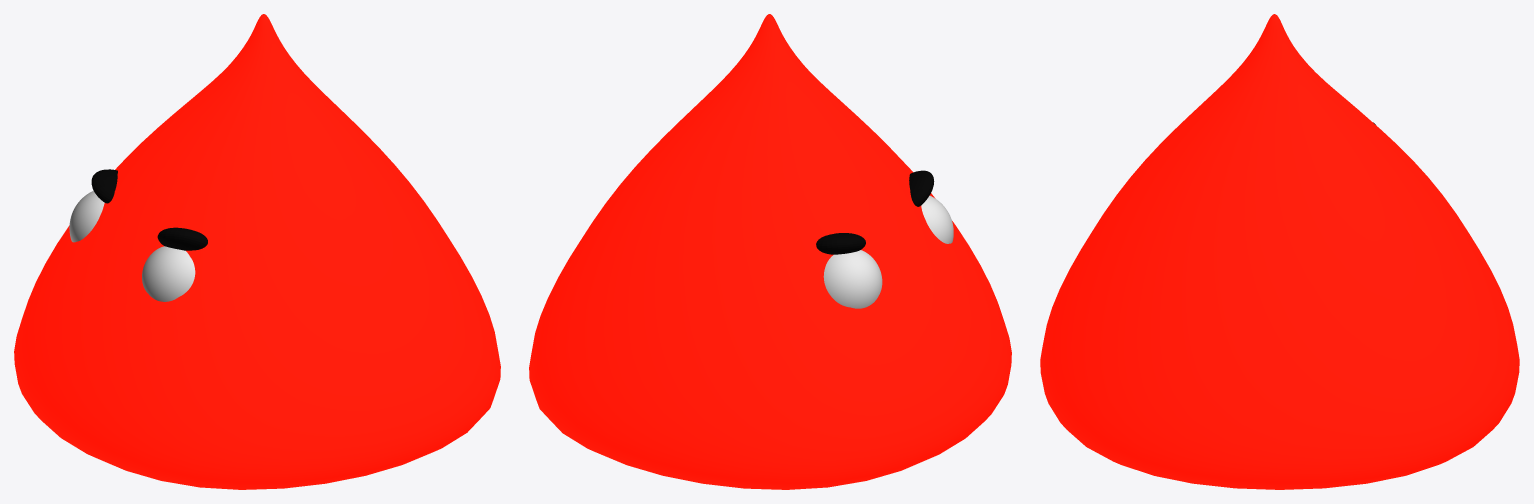
Rendered from RedSlime.fbx.
3 renders of one model, left to right at view 1: azimuth 30°, elevation 25°; view 2: azimuth 150°, elevation 25°; view 3: azimuth 270°, elevation 25°, orthographic.
Parts seen in each view (by area): view 1: Cube.001; view 2: Cube.001; view 3: Cube.001.
Boxes of the visible parts, <box> form: Cube.001: <box>14,14,500,489</box>; Cube.001: <box>529,14,1011,489</box>; Cube.001: <box>1040,14,1519,489</box>.
Size of the model in its own units: 308 by 285 by 308.
